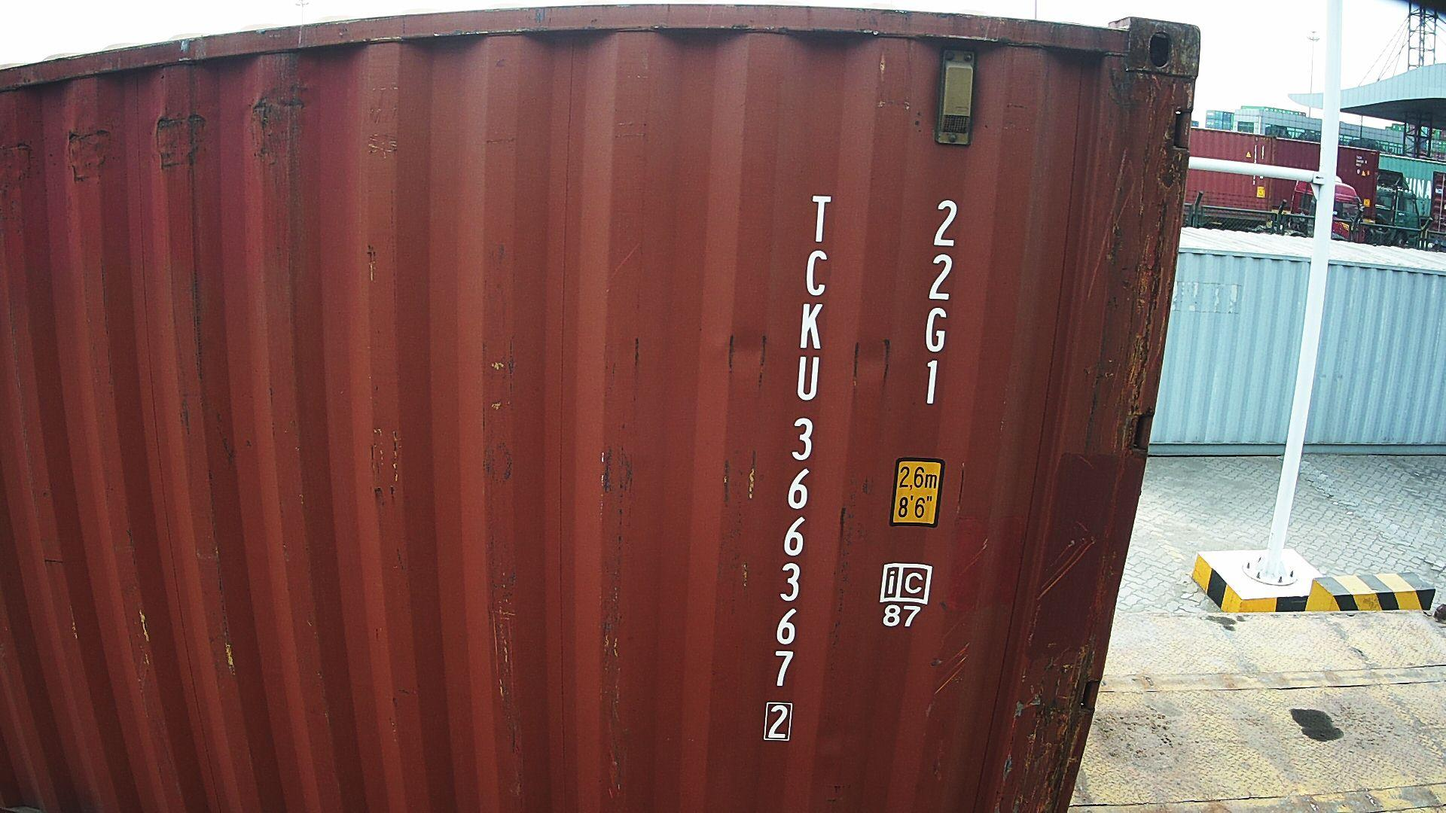container-numbers: (760, 189, 838, 745), (915, 196, 963, 409)
